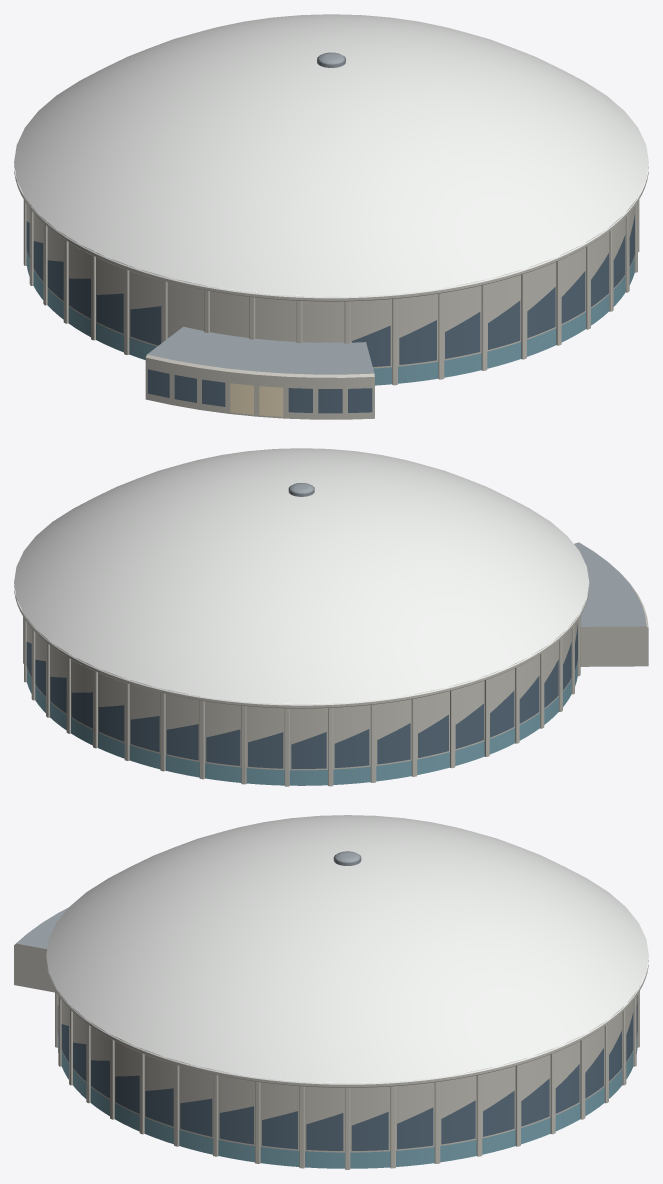
The model's file is bojangles-coliseum.glb.
3 renders of one model, top to bottom at view 1: azimuth 30°, elevation 25°; view 2: azimuth 150°, elevation 25°; view 3: azimuth 270°, elevation 25°, orthographic. The views are drawn at different scales.
Parts seen in each view (by area): view 1: Bojangles Coliseum; view 2: Bojangles Coliseum; view 3: Bojangles Coliseum.
Boxes of the visible parts, x1,y1,x2,y2 form: Bojangles Coliseum: [14, 14, 648, 419]; Bojangles Coliseum: [14, 448, 648, 786]; Bojangles Coliseum: [14, 815, 648, 1169].
Bounding box in the file's own units: 106 × 36.57 × 110.
